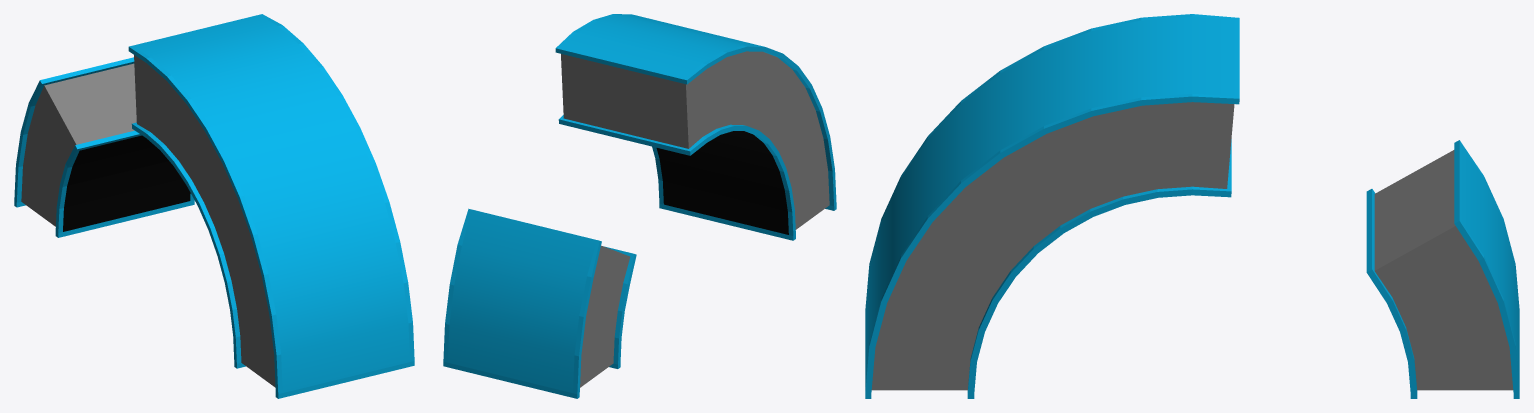
The model's file is Firewall2.FBX.
3 views of the same model, side by side, from view 1: azimuth 30°, elevation 25°; view 2: azimuth 150°, elevation 25°; view 3: azimuth 270°, elevation 25° (orthographic). The views are drawn at different scales.
Parts seen in each view (by area): view 1: Cylinder002; view 2: Cylinder002; view 3: Cylinder002.
Boxes of the visible parts, x1=… form: Cylinder002: x1=14, y1=14, x2=414, y2=398; Cylinder002: x1=443, y1=14, x2=836, y2=398; Cylinder002: x1=865, y1=14, x2=1519, y2=398.
Bounding box in the file's own units: 44.77 × 76.5 × 150.
